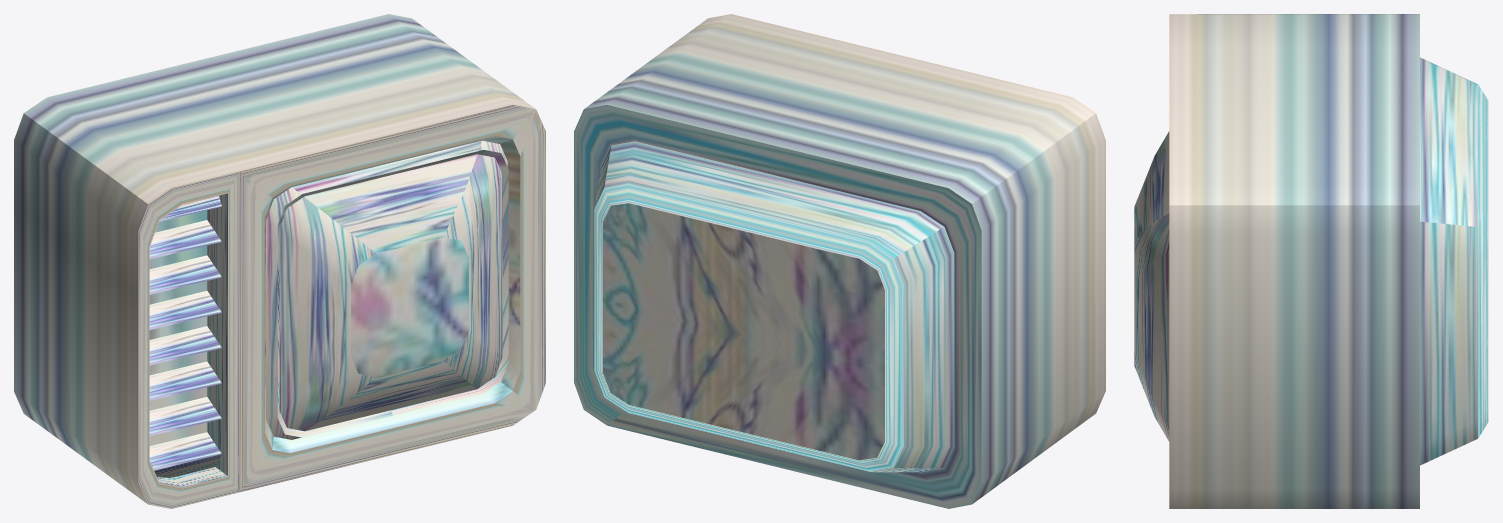
The model's file is Screen_Retro_01.glb.
3 renders of one model, left to right at view 1: azimuth 30°, elevation 25°; view 2: azimuth 150°, elevation 25°; view 3: azimuth 270°, elevation 25°, orthographic.
Parts seen in each view (by area): view 1: Screen_Retro_01; view 2: Screen_Retro_01; view 3: Screen_Retro_01.
Part boxes in pixels (<box>): Screen_Retro_01: <box>14,14,545,508</box>; Screen_Retro_01: <box>574,14,1105,508</box>; Screen_Retro_01: <box>1134,14,1488,508</box>.
Size of the model in its own units: 3.01 by 2.27 by 2.24.
Materials: 4 (4 with a texture image).
